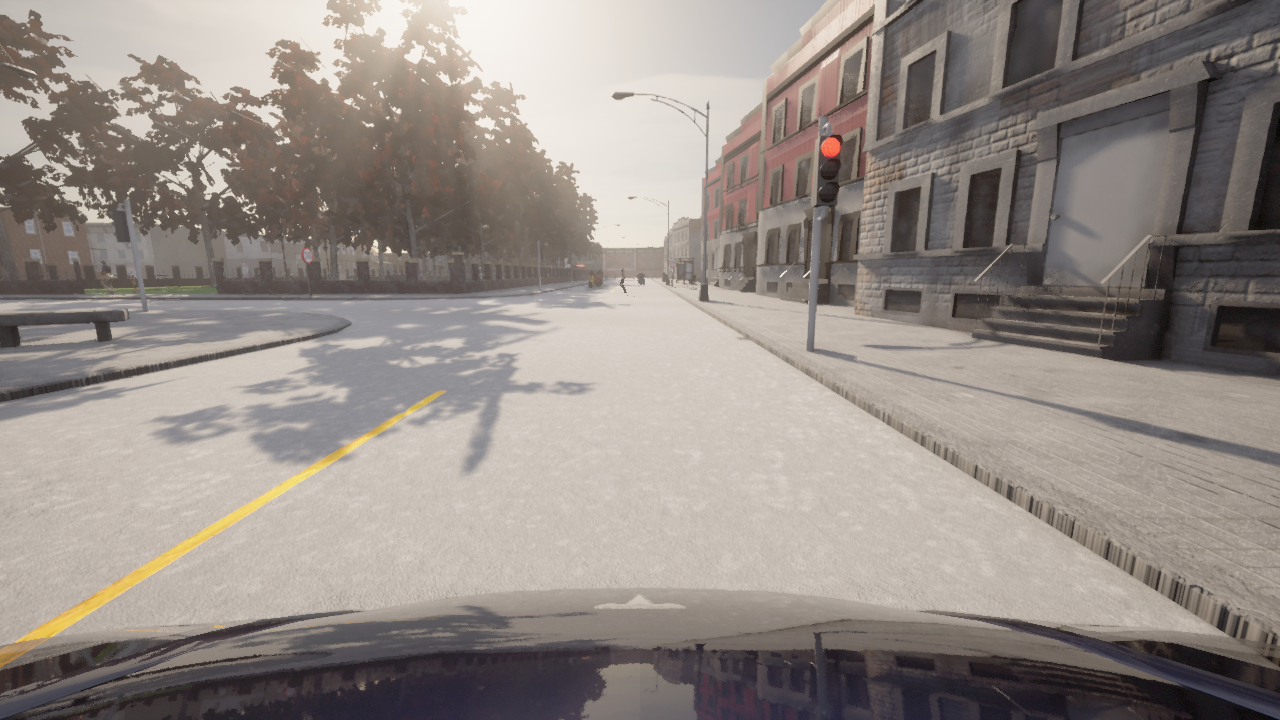cyclist: (0, 588, 1279, 719), (589, 274, 595, 288), (595, 274, 601, 286), (639, 275, 643, 283), (600, 275, 603, 284), (128, 276, 130, 278)
pedestrian: (100, 259, 115, 294), (618, 261, 627, 293), (131, 274, 139, 294)
